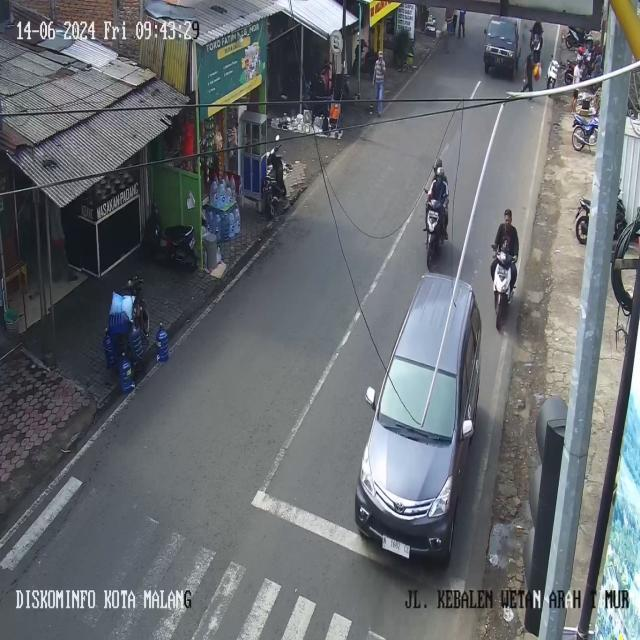Helmet: (434, 158, 442, 170), (436, 166, 443, 177)
Number Plate: (382, 536, 409, 558)
Rearview Mirror: (365, 387, 375, 408), (462, 419, 473, 438), (275, 134, 280, 142), (484, 29, 486, 34)
